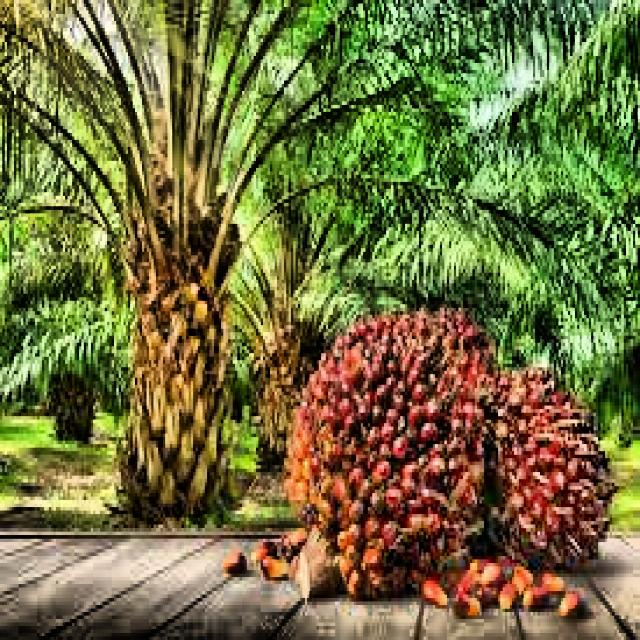FFB: (304, 301, 501, 596), (476, 367, 612, 580)
